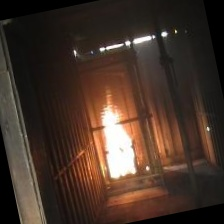fire: (87, 90, 147, 186)
